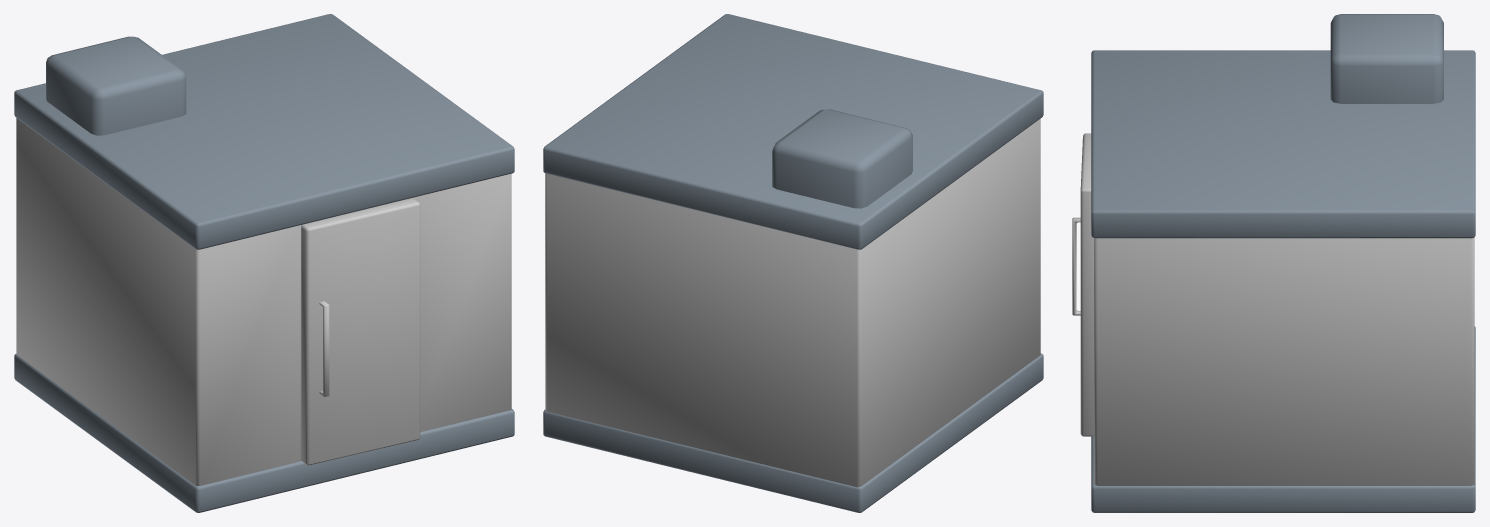
Rendered from Cold-Storage.fbx.
3 views of the same model, side by side, from view 1: azimuth 30°, elevation 25°; view 2: azimuth 150°, elevation 25°; view 3: azimuth 270°, elevation 25° (orthographic). The views are drawn at different scales.
Parts seen in each view (by area): view 1: Cold-Storage, Cold-Storage.Close-Door; view 2: Cold-Storage; view 3: Cold-Storage, Cold-Storage.Close-Door.
Boxes of the visible parts, x1=… form: Cold-Storage: x1=14, y1=14, x2=514, y2=512; Cold-Storage.Close-Door: x1=301, y1=198, x2=420, y2=465; Cold-Storage: x1=543, y1=14, x2=1043, y2=512; Cold-Storage: x1=1091, y1=14, x2=1475, y2=512; Cold-Storage.Close-Door: x1=1072, y1=133, x2=1094, y2=436.
Bounding box in the file's own units: 2 × 2 × 2.1.
